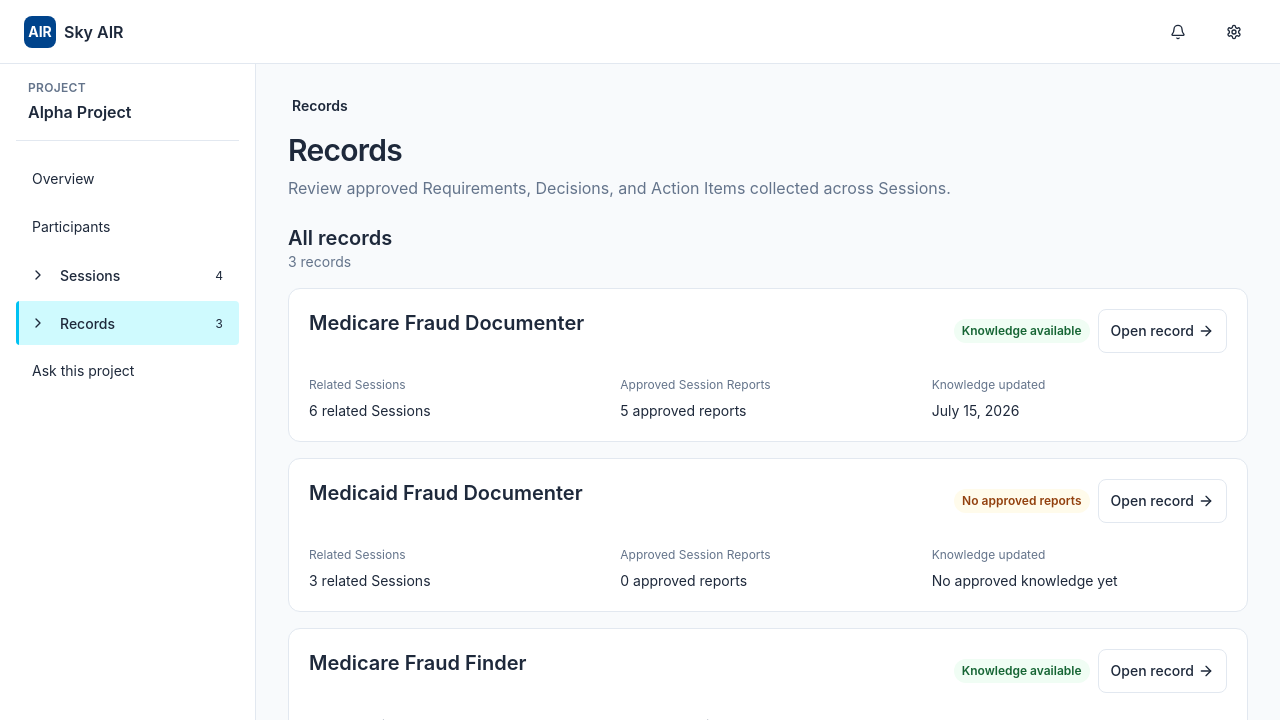
Test: application router foundation › preserves Project navigation when opening a Record from a Project
The image size is (1280, 720).
Expected: the heading "Records" is shown, top-left (288, 132), bottom-right (402, 168)
Click the link named "Open Medicare Fraud Documenter" at (768, 365), box top-left (289, 289), bottom-right (1247, 441)
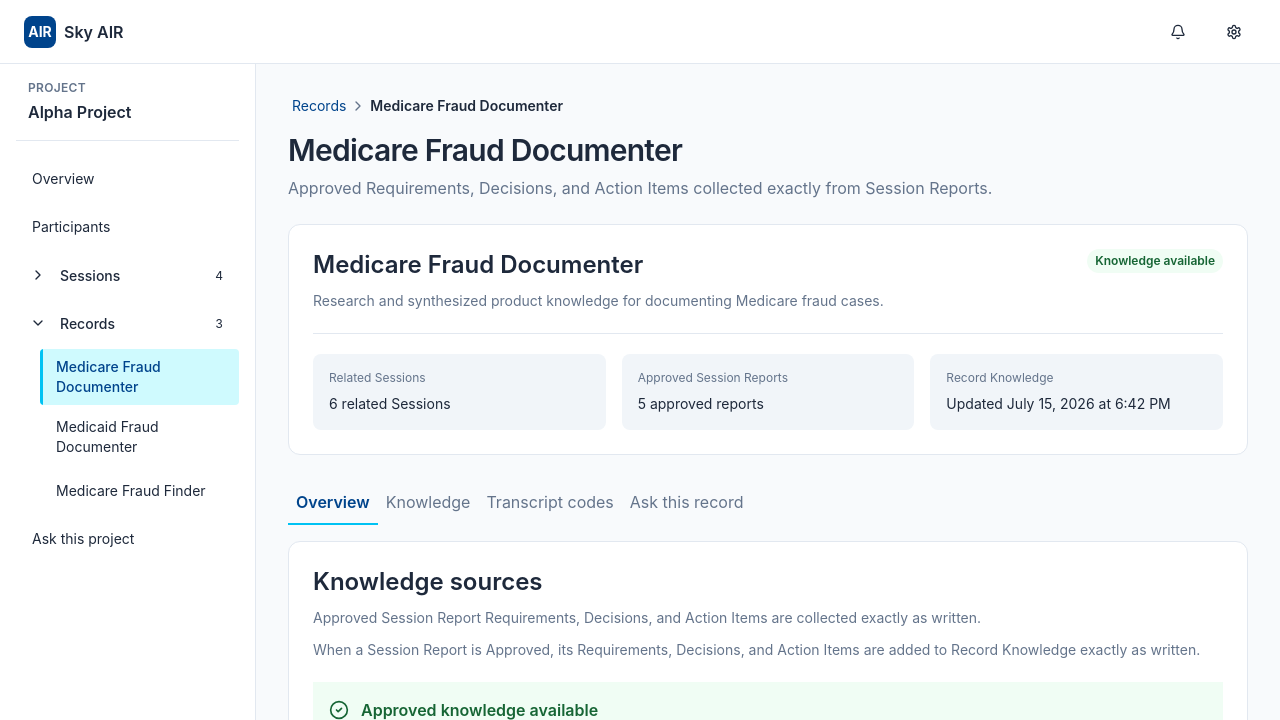
Now the button named "Collapse Records" is expanded, box top-left (16, 301), bottom-right (60, 345)
